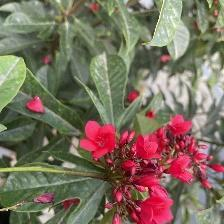jatropha: (80, 121, 121, 162)
